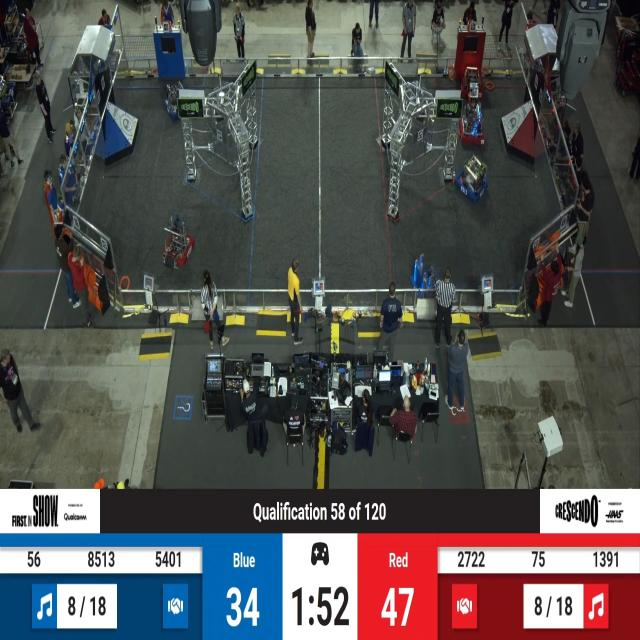Robot: (454, 152, 489, 208), (164, 213, 196, 271), (163, 70, 193, 129), (409, 251, 438, 300), (456, 96, 484, 146), (459, 65, 485, 105)
